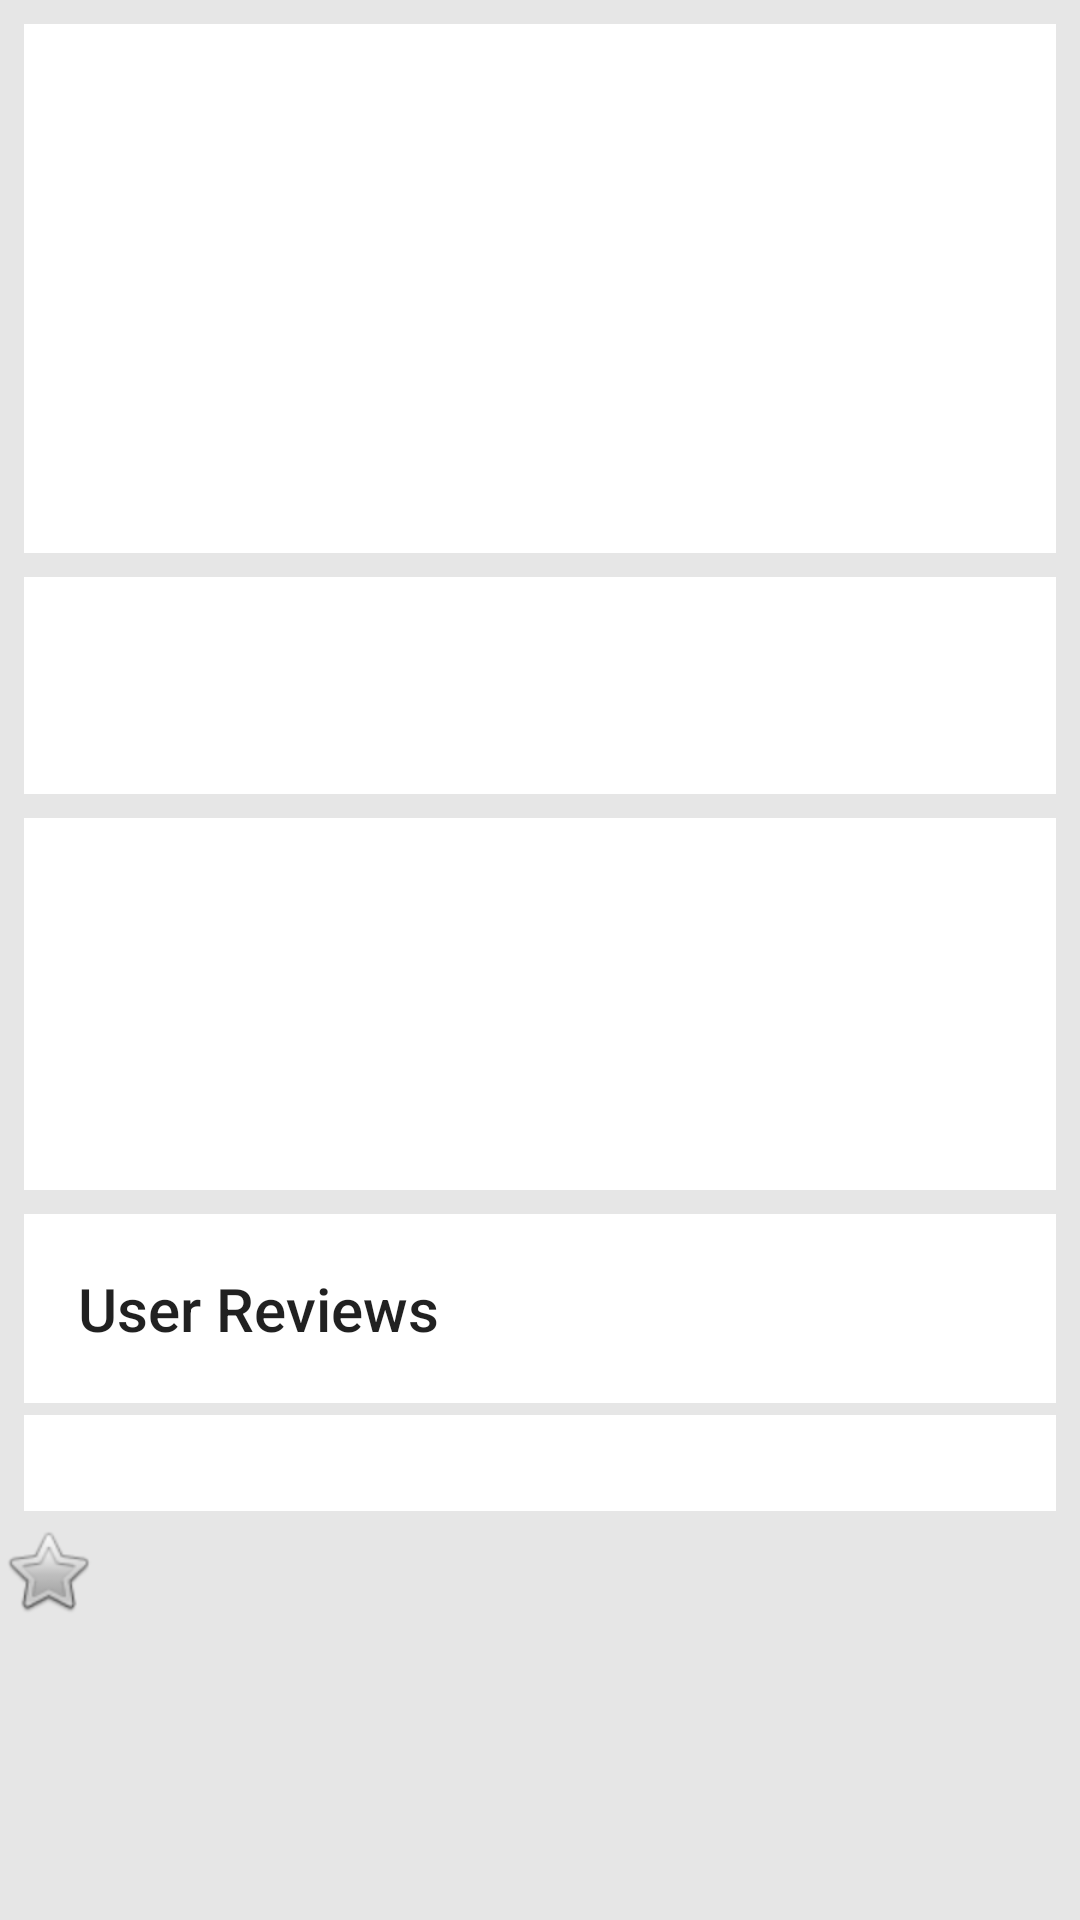

Point at icon controls on the screen. Image size 1080*1920, points as point (x, y).
star: point (49, 1572)
